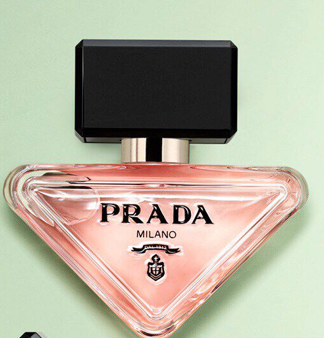prada_paradoxe: (4, 37, 313, 338)
